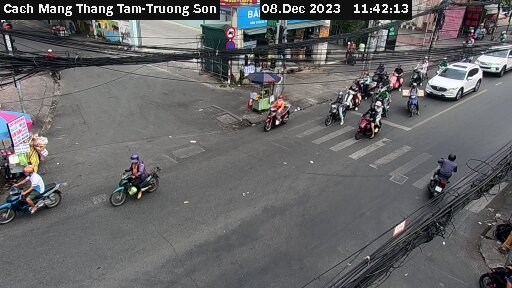car: (427, 62, 482, 100), (477, 44, 512, 78)
motorbike: (103, 160, 171, 206), (4, 168, 62, 221), (420, 154, 462, 197), (357, 104, 392, 143), (323, 93, 358, 129), (259, 95, 298, 126), (401, 86, 435, 120), (336, 73, 364, 106), (405, 58, 429, 82), (364, 67, 387, 88), (386, 64, 404, 88)
